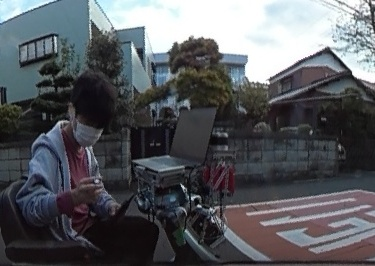person: (21, 72, 130, 266)
